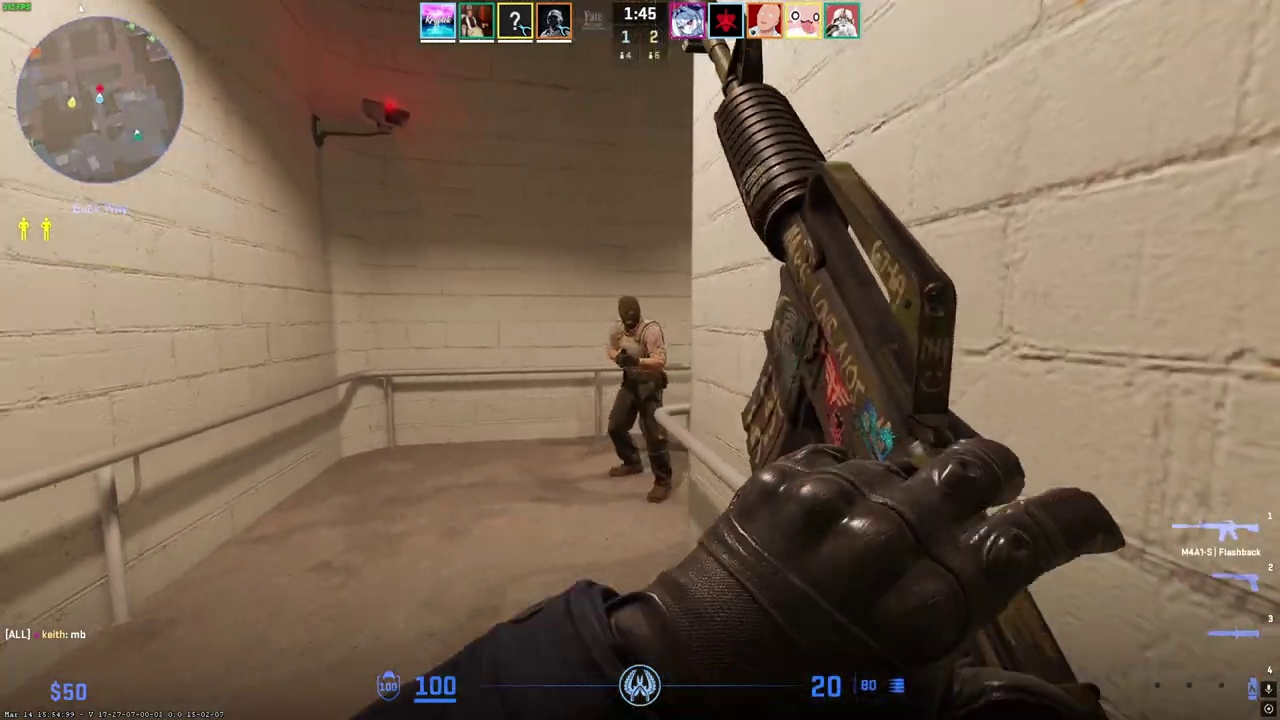Terrorist: (607, 295, 672, 500)
